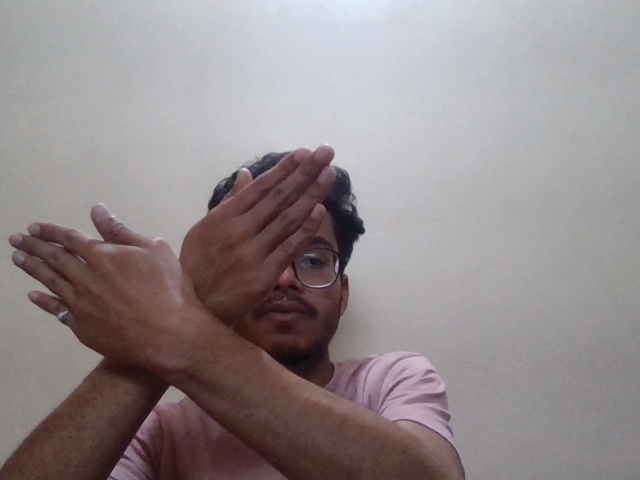feel: (1, 132, 387, 394)
